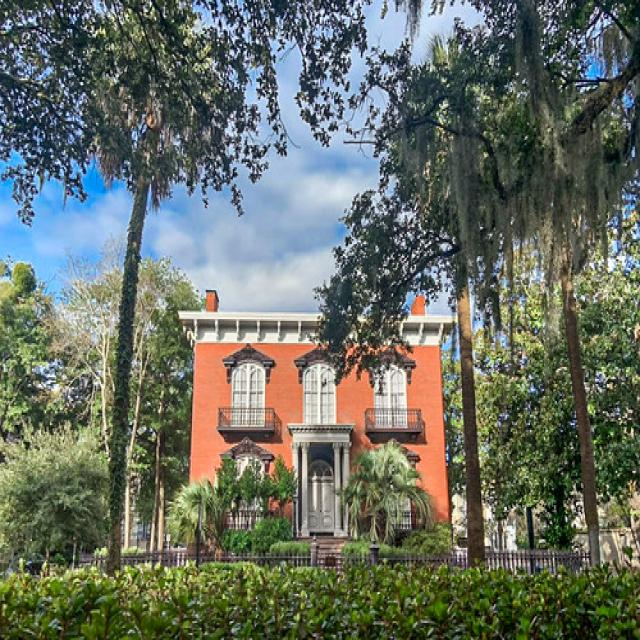building: (173, 289, 459, 564)
